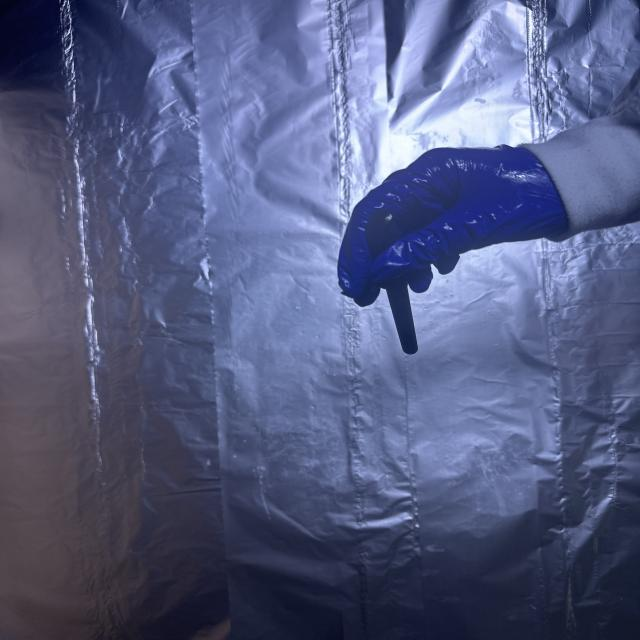gloves_contaminated: (338, 146, 568, 306)
